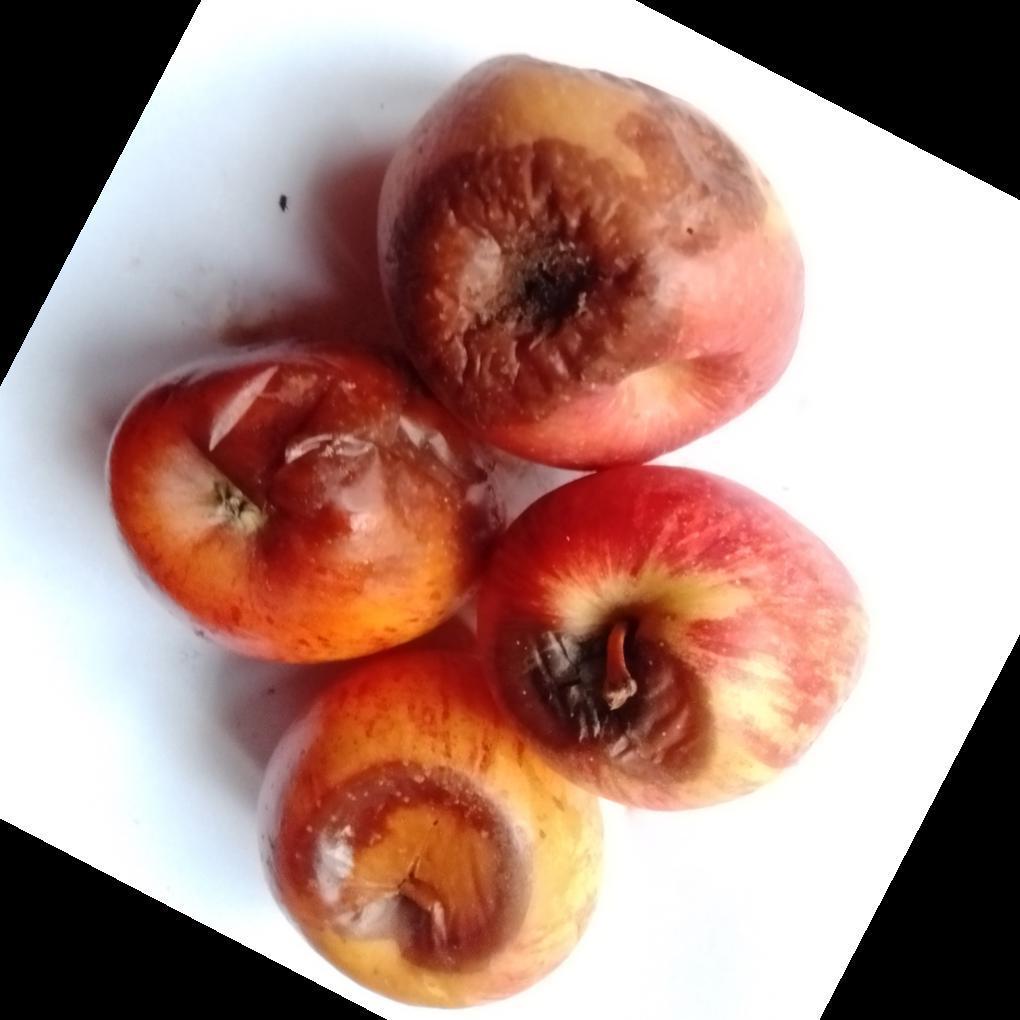FreshOrange: (106, 56, 865, 1013)
